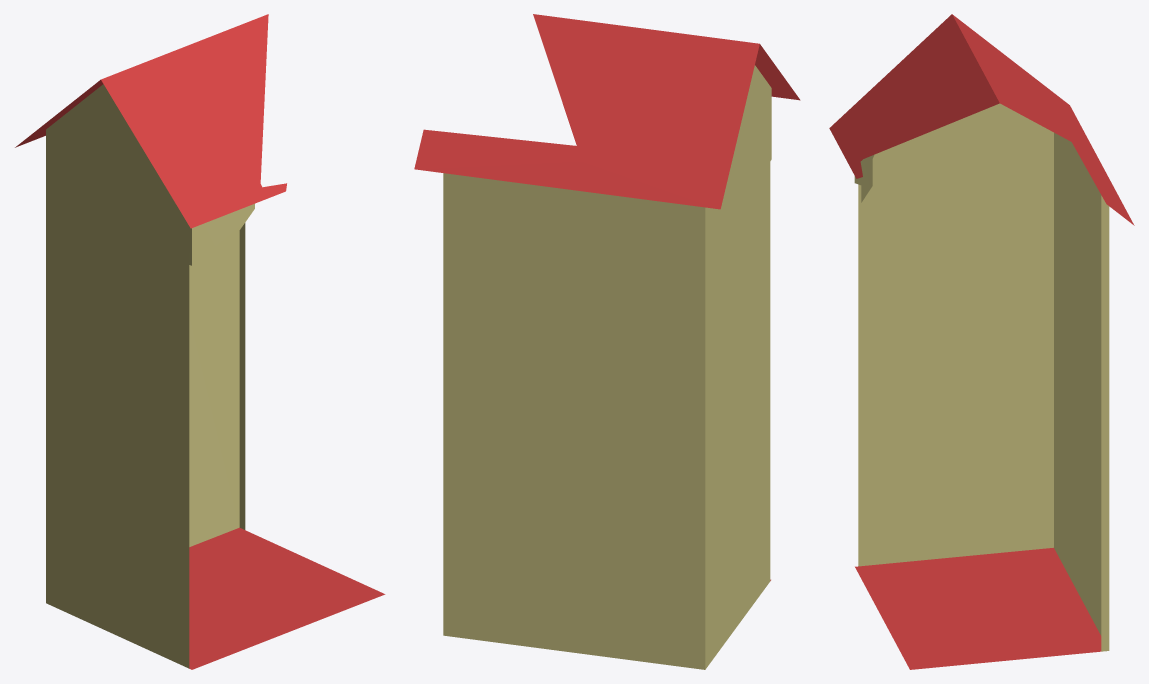
The picture shows the model from 3 angles, left to right: view 1: azimuth 30°, elevation 25°; view 2: azimuth 150°, elevation 25°; view 3: azimuth 270°, elevation 25°; orthographic projection. The views are drawn at different scales.
Size of the model in its own units: 7.39 by 7.17 by 13.83.
